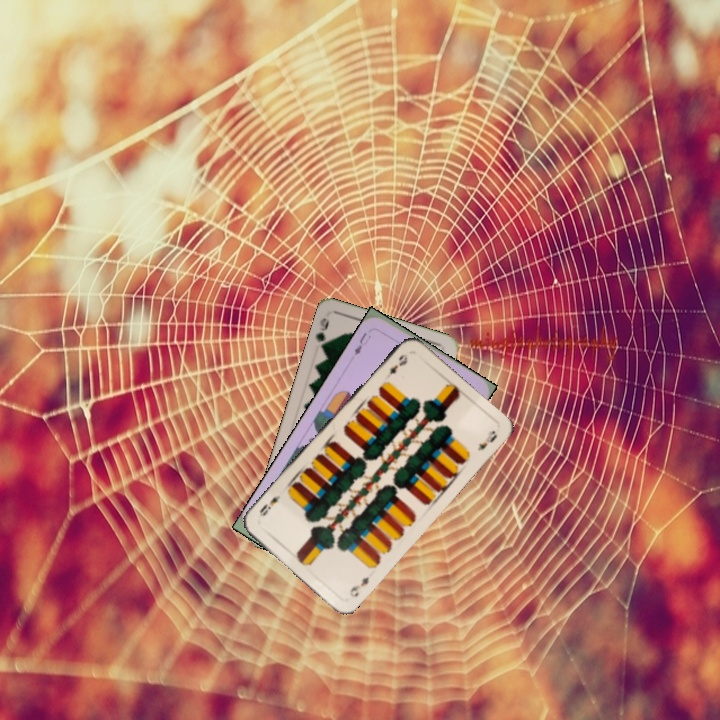E9: (345, 572, 372, 600), (385, 350, 410, 377)
EU: (350, 328, 374, 358)
G9: (311, 314, 332, 353)
